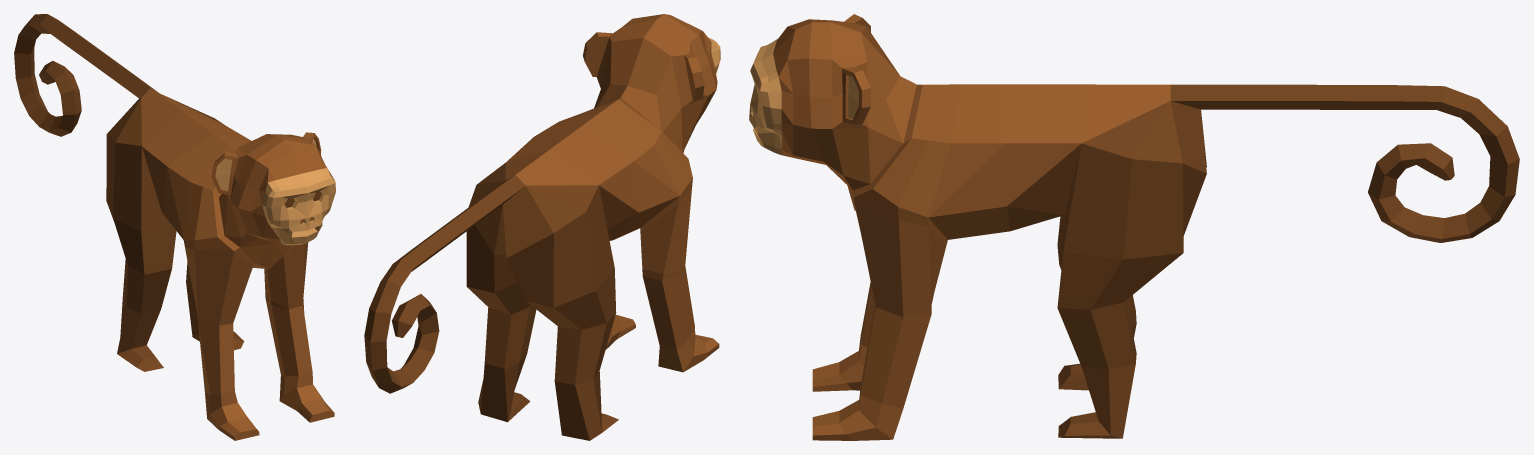
The model's file is delh_anim_01.fbx.
3 views of the same model, side by side, from view 1: azimuth 30°, elevation 25°; view 2: azimuth 150°, elevation 25°; view 3: azimuth 270°, elevation 25° (orthographic). The views are drawn at different scales.
Visible parts, largest first — view 1: delh_anim_01; view 2: delh_anim_01; view 3: delh_anim_01.
Part boxes in pixels (x1,y1,x2,y2): delh_anim_01: [14, 14, 335, 440]; delh_anim_01: [364, 14, 720, 440]; delh_anim_01: [749, 14, 1519, 440].
Bounding box in the file's own units: 15.17 × 36.14 × 65.3.
